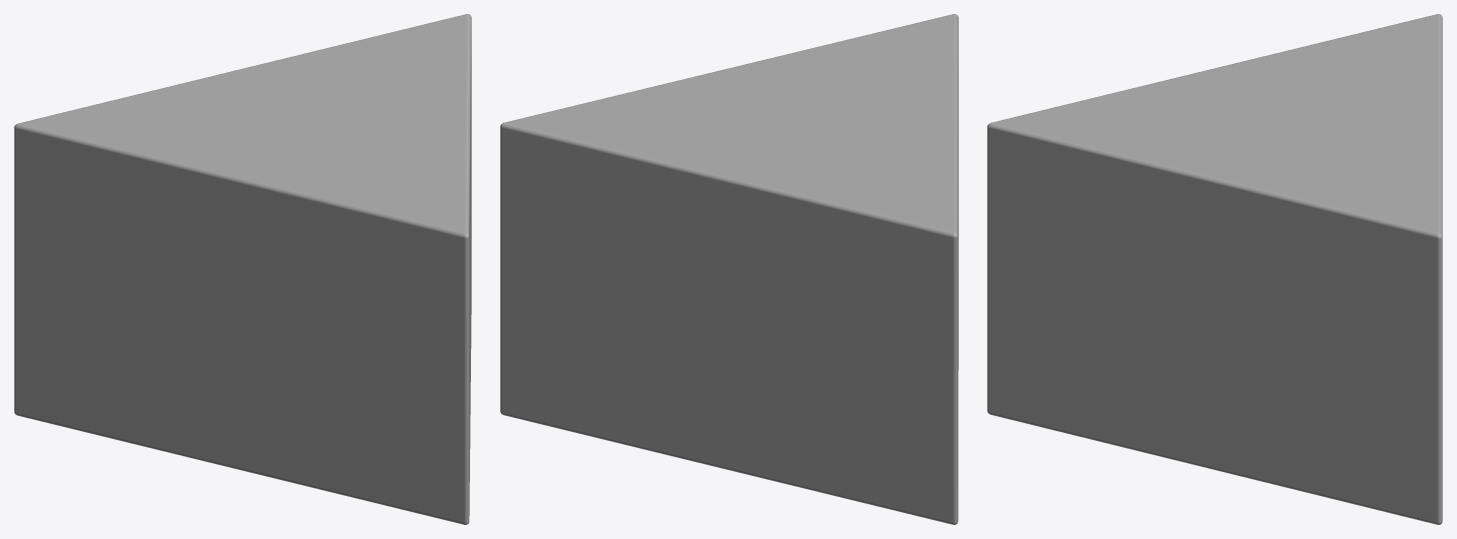
Rendered from roof.fbx.
3 renders of one model, left to right at view 1: azimuth 30°, elevation 25°; view 2: azimuth 150°, elevation 25°; view 3: azimuth 270°, elevation 25°, orthographic.
Parts seen in each view (by area): view 1: node_id5; view 2: node_id5; view 3: node_id5.
Part boxes in pixels (x1,y1,x2,y2): node_id5: [14, 14, 471, 524]; node_id5: [500, 14, 958, 524]; node_id5: [987, 14, 1442, 524].
Bounding box in the file's own units: 0.512 × 0.3132 × 0.4426.
Materials: 1 (1 with a texture image).
